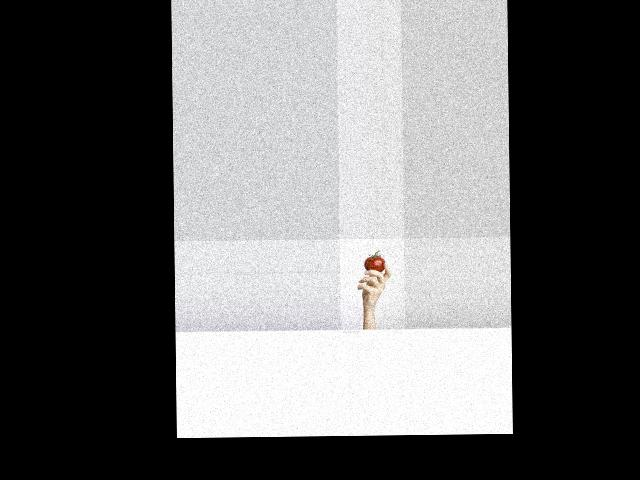tomato: (364, 250, 384, 271)
